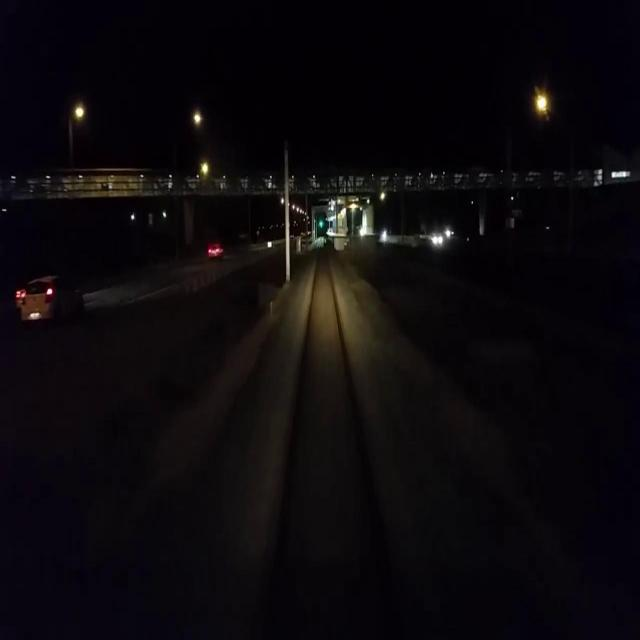rail-track: (274, 237, 384, 575)
